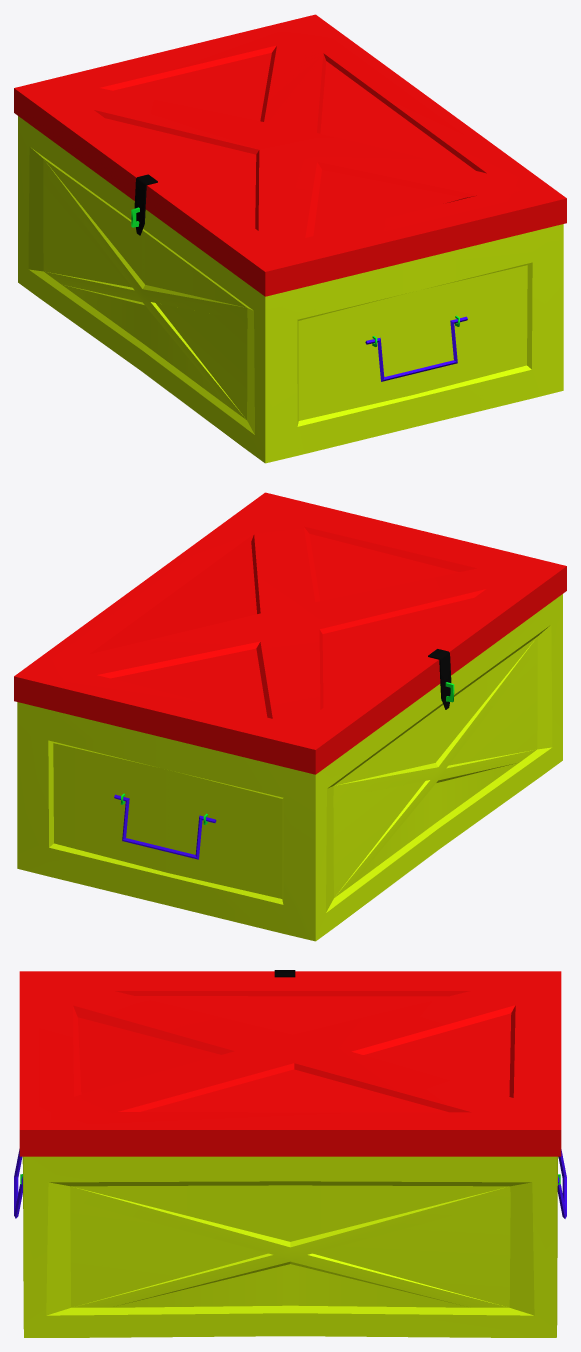
File: MetalGunBox.FBX
3 renders of one model, top to bottom at view 1: azimuth 30°, elevation 25°; view 2: azimuth 150°, elevation 25°; view 3: azimuth 270°, elevation 25°, orthographic. The views are drawn at different scales.
Visible parts, largest first — view 1: Box001; view 2: Box001; view 3: Box001.
Part boxes in pixels (left/top/right/bottom): Box001: left=14, top=14, right=566, bottom=463; Box001: left=14, top=492, right=566, bottom=941; Box001: left=14, top=970, right=566, bottom=1337.
Bounding box in the file's own units: 42.59 × 25.54 × 60.69.
